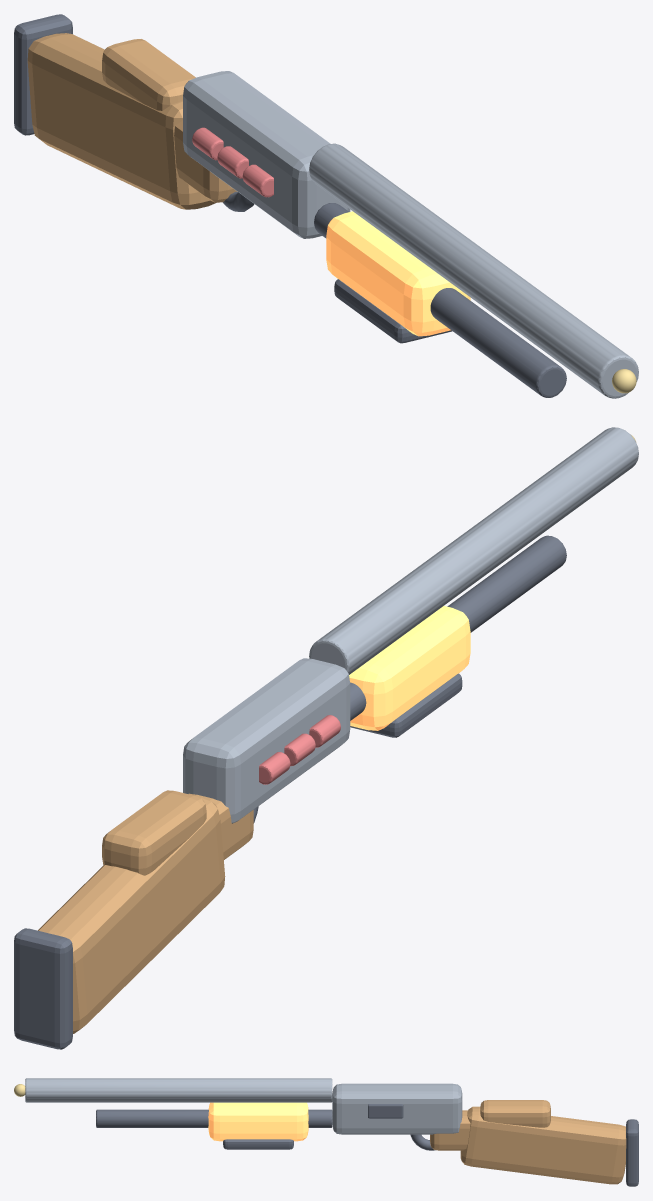
File: shotgun.glb
3 views of the same model, one above another, from view 1: azimuth 30°, elevation 25°; view 2: azimuth 150°, elevation 25°; view 3: azimuth 270°, elevation 25° (orthographic). The views are drawn at different scales.
Parts seen in each view (by area): view 1: WPN_Shotgun_Barrel.001, WPN_Shotgun_Stock.001, WPN_Shotgun_Receiver.001, WPN_Shotgun_Pump.001, WPN_Shotgun_MagTube.001, WPN_Shotgun_Cheek.001, WPN_Shotgun_ButtPad.001, WPN_Shotgun_GripWrist.001, WPN_Shotgun_PumpRib.001, WPN_Shotgun_Shell2.001, WPN_Shotgun_Shell0.001, WPN_Shotgun_Shell1.001; view 2: WPN_Shotgun_Barrel.001, WPN_Shotgun_Stock.001, WPN_Shotgun_Receiver.001, WPN_Shotgun_Pump.001, WPN_Shotgun_ButtPad.001, WPN_Shotgun_Cheek.001, WPN_Shotgun_MagTube.001, WPN_Shotgun_PumpRib.001, WPN_Shotgun_GripWrist.001; view 3: WPN_Shotgun_Stock.001, WPN_Shotgun_Barrel.001, WPN_Shotgun_Receiver.001, WPN_Shotgun_Pump.001, WPN_Shotgun_MagTube.001, WPN_Shotgun_Cheek.001, WPN_Shotgun_ButtPad.001, WPN_Shotgun_GripWrist.001, WPN_Shotgun_PumpRib.001, WPN_Shotgun_Eject.001, WPN_Shotgun_Guard.001.
Boxes of the visible parts, box(x1,y1,x2,y2) form: WPN_Shotgun_Barrel.001: box(309, 143, 638, 398); WPN_Shotgun_Stock.001: box(27, 33, 216, 209); WPN_Shotgun_Receiver.001: box(183, 71, 350, 238); WPN_Shotgun_Pump.001: box(326, 211, 470, 336); WPN_Shotgun_MagTube.001: box(314, 203, 566, 397); WPN_Shotgun_Cheek.001: box(102, 39, 195, 110); WPN_Shotgun_ButtPad.001: box(14, 14, 72, 135); WPN_Shotgun_GripWrist.001: box(174, 120, 237, 202); WPN_Shotgun_PumpRib.001: box(334, 279, 452, 343); WPN_Shotgun_Shell2.001: box(242, 164, 273, 197); WPN_Shotgun_Shell0.001: box(192, 127, 223, 160); WPN_Shotgun_Shell1.001: box(217, 146, 248, 178); WPN_Shotgun_Barrel.001: box(309, 427, 638, 674); WPN_Shotgun_Stock.001: box(38, 796, 225, 1033); WPN_Shotgun_Receiver.001: box(183, 658, 350, 823); WPN_Shotgun_Pump.001: box(349, 606, 470, 730); WPN_Shotgun_ButtPad.001: box(14, 928, 72, 1049); WPN_Shotgun_Cheek.001: box(102, 790, 206, 875); WPN_Shotgun_MagTube.001: box(350, 535, 566, 720); WPN_Shotgun_PumpRib.001: box(350, 673, 462, 737); WPN_Shotgun_GripWrist.001: box(188, 793, 253, 859); WPN_Shotgun_Stock.001: box(460, 1106, 626, 1184); WPN_Shotgun_Barrel.001: box(25, 1078, 332, 1102); WPN_Shotgun_Receiver.001: box(332, 1083, 462, 1134); WPN_Shotgun_Pump.001: box(208, 1102, 308, 1141); WPN_Shotgun_MagTube.001: box(96, 1109, 332, 1127); WPN_Shotgun_Cheek.001: box(480, 1100, 550, 1127); WPN_Shotgun_ButtPad.001: box(626, 1119, 638, 1186); WPN_Shotgun_GripWrist.001: box(430, 1110, 470, 1150); WPN_Shotgun_PumpRib.001: box(223, 1139, 293, 1149); WPN_Shotgun_Eject.001: box(368, 1104, 403, 1118); WPN_Shotgun_Guard.001: box(410, 1134, 435, 1150).
Size of the model in its own units: 0.0756 by 0.1907 by 1.06.
